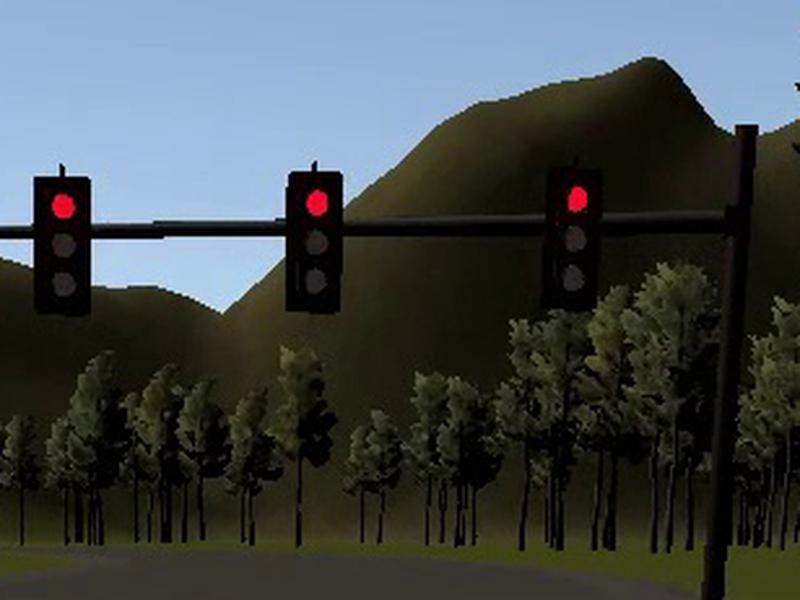Red: (540, 172, 603, 308), (285, 171, 344, 315), (34, 176, 89, 317)
